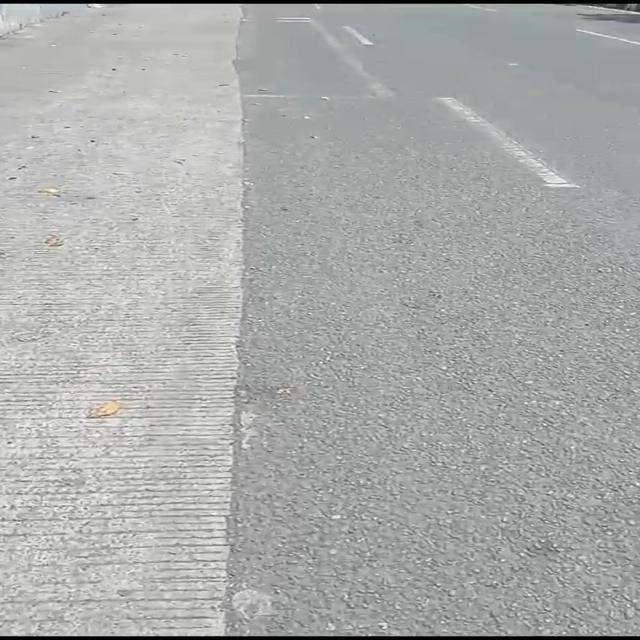Sambungan: (0, 0, 250, 640)
